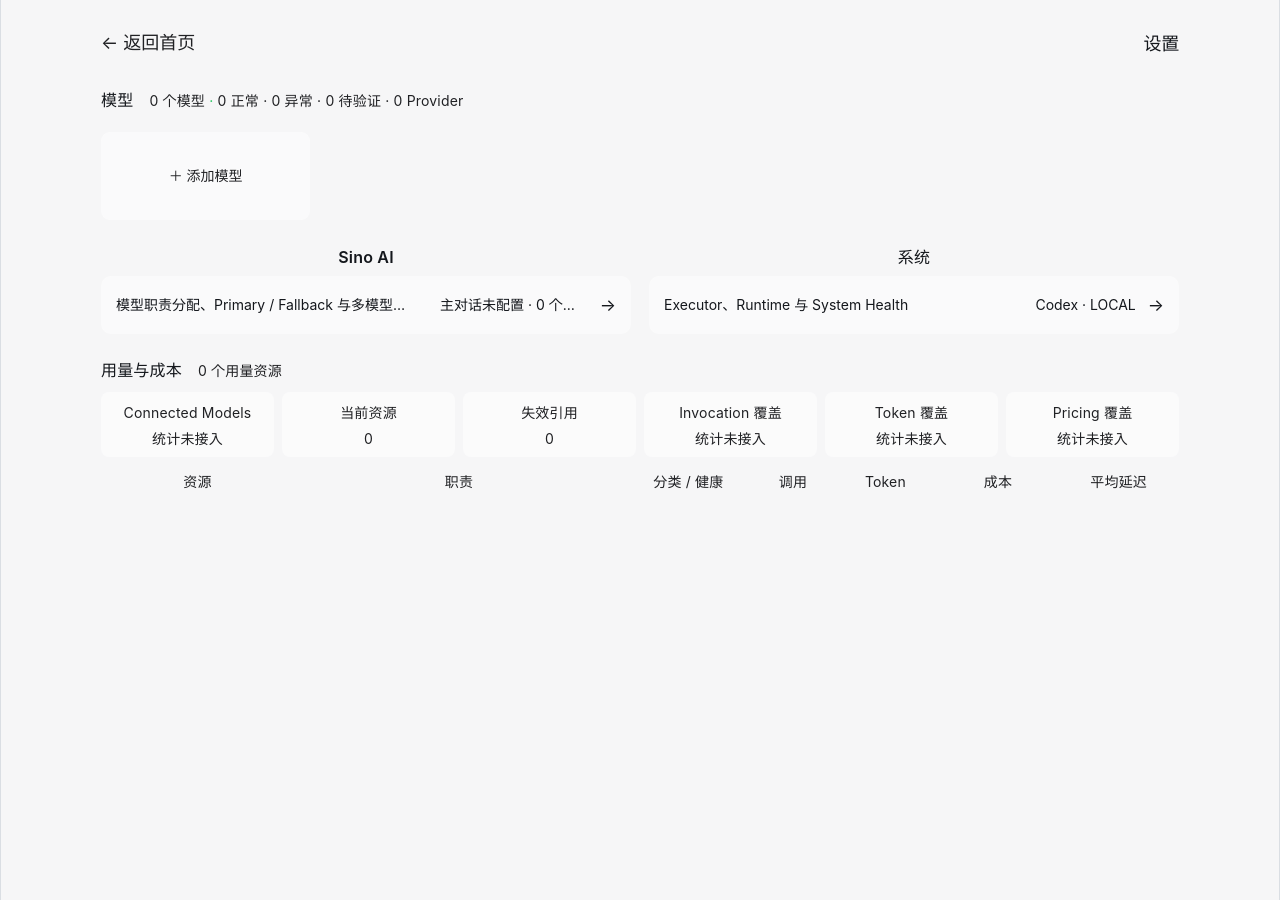
Founder Settings › keeps a legacy mismatched Vision Fallback visible but invalid and disabled
The width and height of the screenshot is (1280, 900).
Expected: the heading "设置" is shown, [1144,30,1179,56]
Click the button with aria-label "打开Sino AI" at (366, 305), box [101,276,631,334]
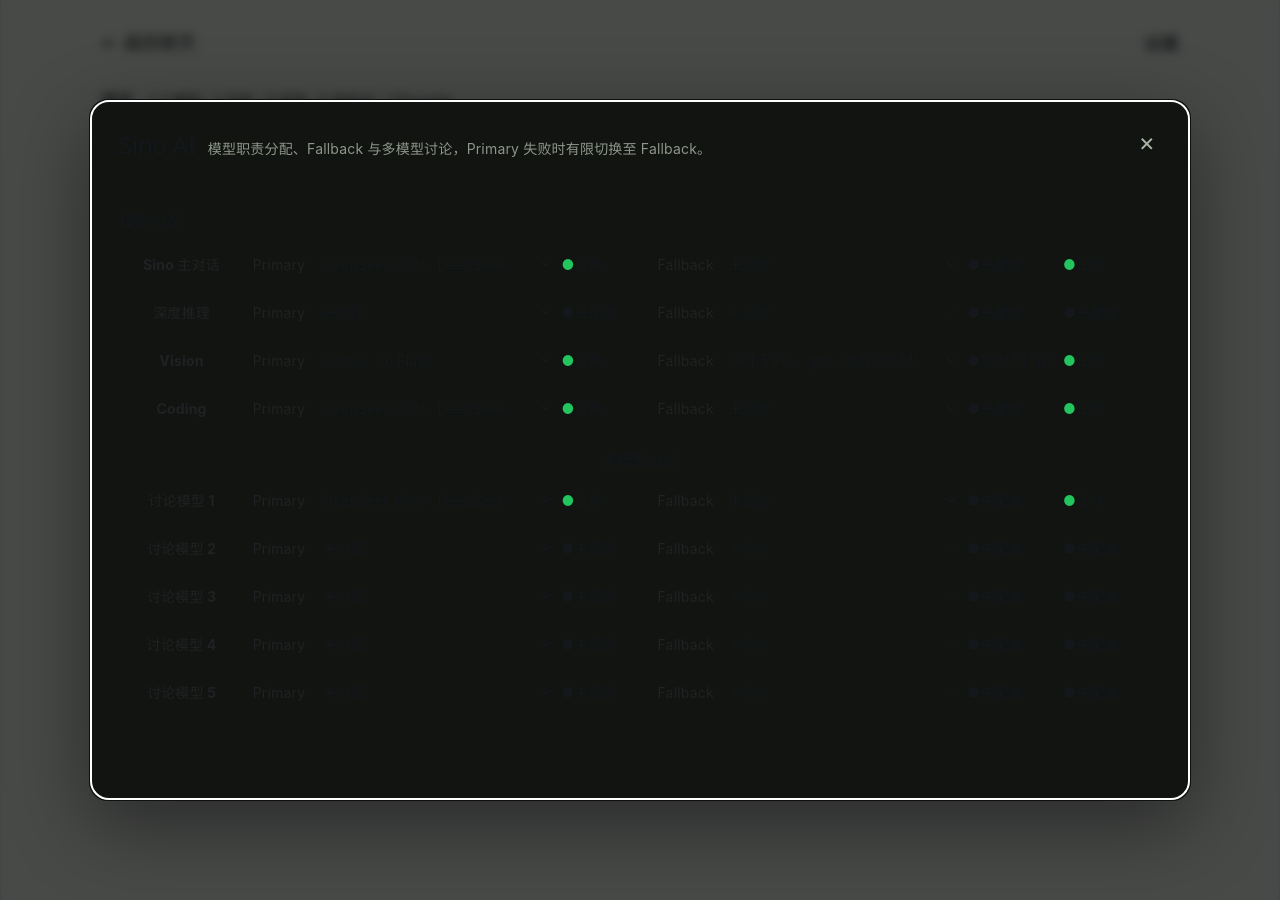
Expected: the element named "Vision Primary 状态" reads "● 正常", [562,352,603,369]
Expected: the element named "Vision Assignment 状态" reads "● 正常", [1063,352,1104,369]
